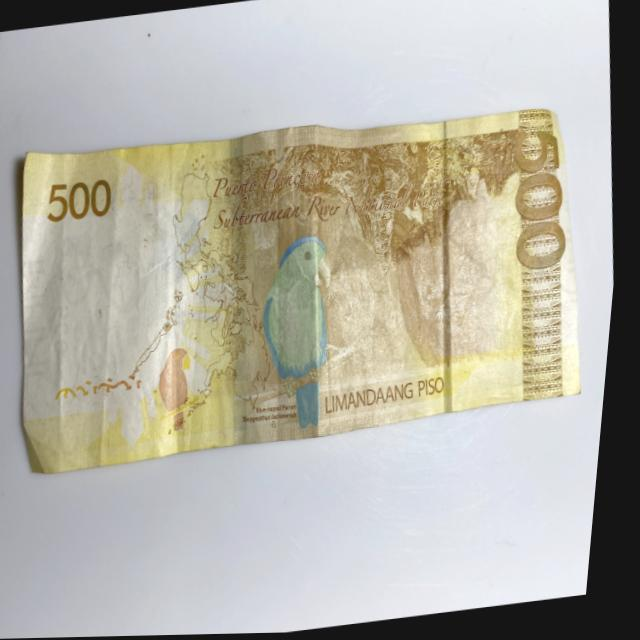500_big_parrot: (251, 229, 358, 438)
500_parrot_watermark: (151, 341, 207, 444)
value_watermark: (50, 300, 80, 358)
